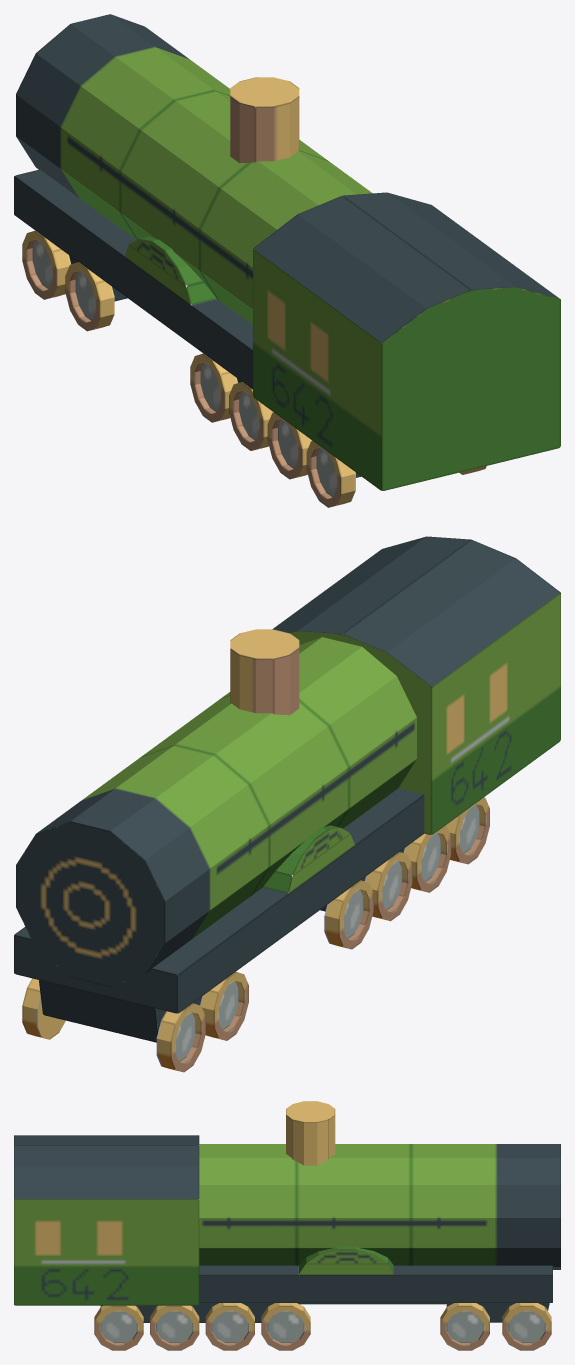
Rendered from Toa_3.fbx.
3 views of the same model, one above another, from view 1: azimuth 30°, elevation 25°; view 2: azimuth 150°, elevation 25°; view 3: azimuth 270°, elevation 25° (orthographic). The views are drawn at different scales.
Visible parts, largest first — view 1: cuboid, cylinder, cuboid_2, cylinder_1, cylinder_3, cylinder_2, cylinder_7, cylinder_4, cylinder_5, cylinder_6; view 2: cylinder, cuboid, cuboid_2, cylinder_1, cuboid_1, cylinder_2, cylinder_4, cylinder_3, cylinder_5, cylinder_6, cylinder_7, cylinder_13; view 3: cylinder, cuboid, cuboid_2, cylinder_1, cylinder_11, cylinder_10, cylinder_13, cylinder_12, cylinder_9, cylinder_8, cuboid_1.
Boxes of the visible parts, box(x1,y1,x2,y2) form: cuboid: box(253, 192, 560, 490); cylinder: box(16, 14, 372, 324); cuboid_2: box(14, 169, 252, 389); cylinder_1: box(230, 77, 299, 163); cylinder_3: box(65, 262, 114, 331); cylinder_2: box(22, 230, 70, 299); cylinder_7: box(306, 441, 355, 507); cylinder_4: box(190, 353, 237, 422); cylinder_5: box(229, 382, 273, 450); cylinder_6: box(267, 412, 312, 479); cylinder: box(16, 637, 416, 987); cuboid: box(272, 536, 560, 834); cuboid_2: box(14, 788, 424, 1013); cylinder_1: box(230, 629, 299, 715); cuboid_1: box(39, 845, 404, 1042); cylinder_2: box(156, 1003, 205, 1072); cylinder_4: box(324, 880, 373, 949); cylinder_3: box(200, 972, 248, 1040); cylinder_5: box(364, 852, 412, 921); cylinder_6: box(403, 825, 451, 892); cylinder_7: box(445, 797, 489, 864); cylinder_13: box(22, 978, 65, 1039); cylinder: box(198, 1144, 560, 1269); cuboid: box(14, 1135, 199, 1305); cuboid_2: box(199, 1247, 552, 1302); cylinder_1: box(286, 1101, 335, 1165); cylinder_11: box(261, 1303, 310, 1350); cylinder_10: box(205, 1303, 254, 1350); cylinder_13: box(502, 1303, 551, 1350); cylinder_12: box(440, 1303, 489, 1350); cylinder_9: box(150, 1305, 199, 1350); cylinder_8: box(94, 1305, 143, 1350); cuboid_1: box(100, 1303, 549, 1322).
Size of the model in its own units: 150 by 238 by 553.
Materials: 1 (1 with a texture image).
